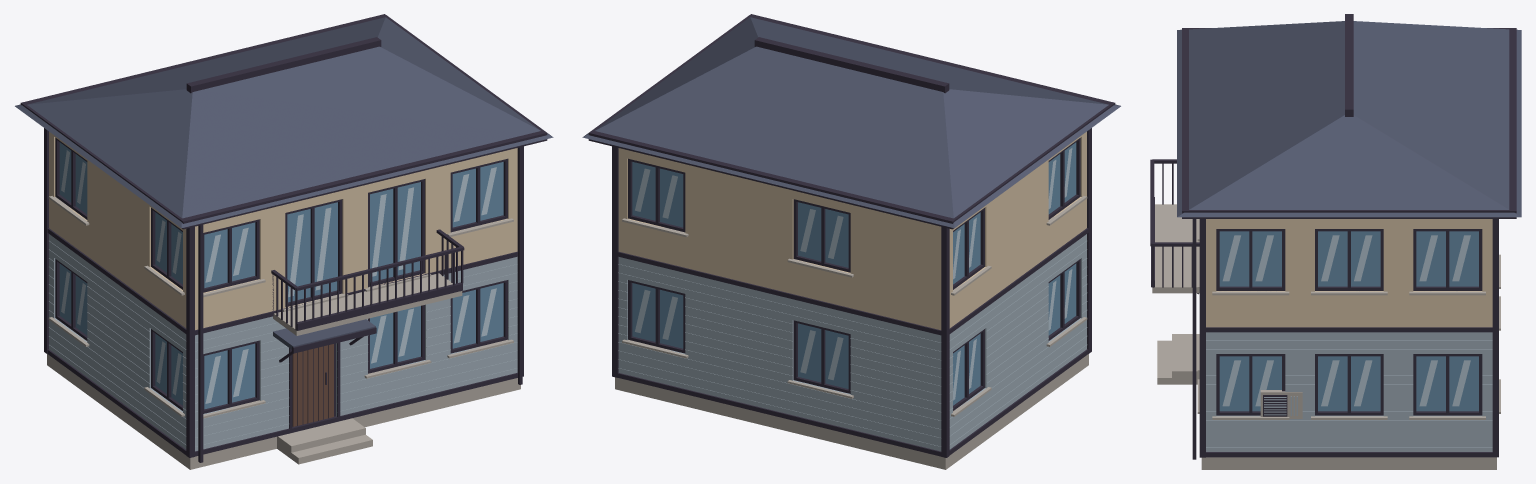
Rendered from SM_House_HipRoof.fbx.
3 renders of one model, left to right at view 1: azimuth 30°, elevation 25°; view 2: azimuth 150°, elevation 25°; view 3: azimuth 270°, elevation 25°, orthographic. The views are drawn at different scales.
Visible parts, largest first — view 1: SM_House_HipRoof; view 2: SM_House_HipRoof; view 3: SM_House_HipRoof.
Boxes of the visible parts, x1,y1,x2,y2 form: SM_House_HipRoof: (15, 14, 553, 469); SM_House_HipRoof: (582, 14, 1120, 469); SM_House_HipRoof: (1150, 14, 1521, 469).
Size of the model in its own units: 9 by 7.54 by 7.28.
